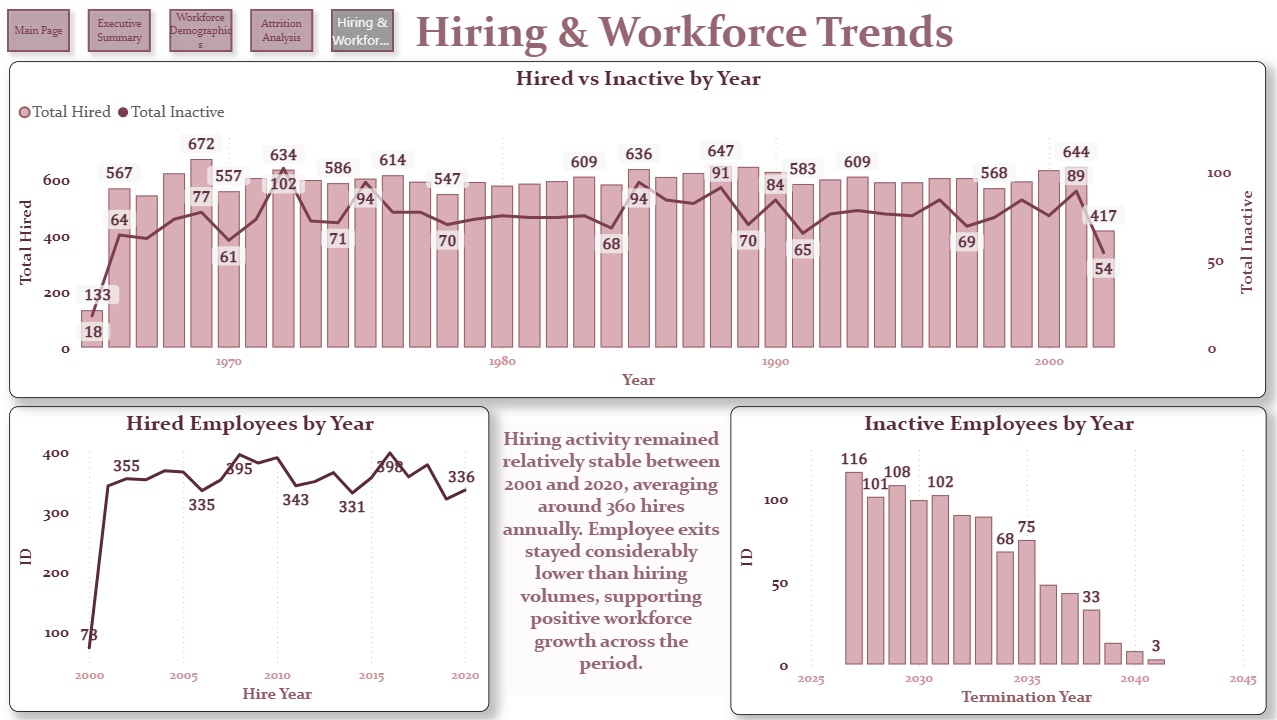

The dashboard page shown, as its layout file describes it:
{"tool":"powerbi","page":{"name":"Hiring & Workforce Trends","canvas":[1280,720],"ordinal":4},"visuals":[{"type":"textbox","box":[407.5,0,557.5,66.2],"z":0},{"type":"lineChart","title":"Hired Employees by Year","fields":{"Category":["HR Data.Hire Year"],"Y":["CountNonNull(HR Data.id)"]},"box":[11.4,405.7,480,305.7],"z":1000},{"type":"columnChart","title":"Inactive Employees by Year","fields":{"Y":["CountNonNull(HR Data.id)"],"Category":["HR Data.Termination Year"]},"box":[732.9,405.7,535.7,308.6],"z":2000},{"type":"lineClusteredColumnComboChart","title":"Hired vs Inactive by Year","fields":{"Y":["_Mesures.Total Hired"],"Y2":["_Mesures.Total_inactive"],"Category":["calender_table.Year"]},"box":[11.7,61.7,1256.7,336.7],"z":3000},{"type":"textbox","box":[497.1,422.9,231.4,272.9],"z":4000},{"type":"pageNavigator","box":[0,0,407.5,61.2],"z":5000}]}

Visuals, with their boxes in screenshot pixels (x1, y1, x2, y2), scaled from the page's 1280x720 canvas onto the 1277x720 screenshot:
textbox: pyautogui.locateOnScreen(407, 0, 963, 66)
"Hired Employees by Year" lineChart: pyautogui.locateOnScreen(11, 406, 490, 711)
"Inactive Employees by Year" columnChart: pyautogui.locateOnScreen(731, 406, 1266, 714)
"Hired vs Inactive by Year" lineClusteredColumnComboChart: pyautogui.locateOnScreen(12, 62, 1265, 398)
textbox: pyautogui.locateOnScreen(496, 423, 727, 696)
pageNavigator: pyautogui.locateOnScreen(0, 0, 407, 61)
